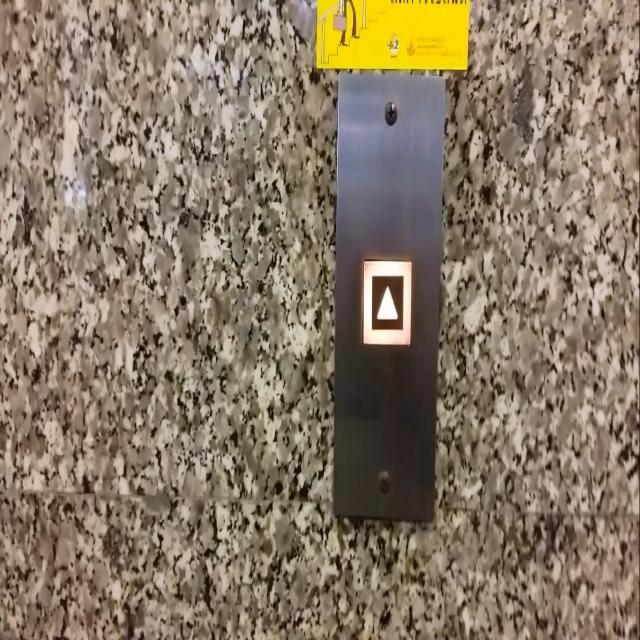up: (361, 257, 413, 345)
